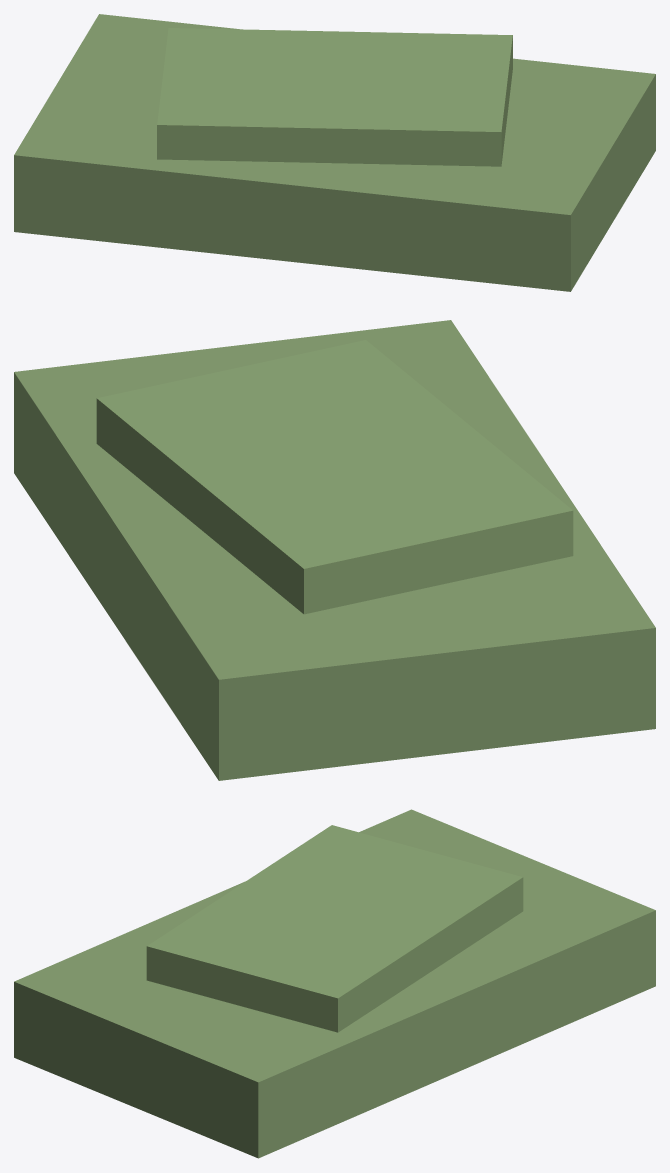
Rendered from structure.glb.
3 renders of one model, top to bottom at view 1: azimuth 30°, elevation 25°; view 2: azimuth 150°, elevation 25°; view 3: azimuth 270°, elevation 25°, orthographic. The views are drawn at different scales.
Parts seen in each view (by area): view 1: Box1, Box2; view 2: Box1, Box2; view 3: Box1, Box2.
Part boxes in pixels (x1,y1,x2,y2): Box1: [14, 14, 655, 291]; Box2: [157, 28, 512, 166]; Box1: [14, 320, 655, 780]; Box2: [96, 340, 573, 614]; Box1: [14, 809, 655, 1158]; Box2: [146, 825, 523, 1032].
Size of the model in its own units: 130 by 24.51 by 129.
